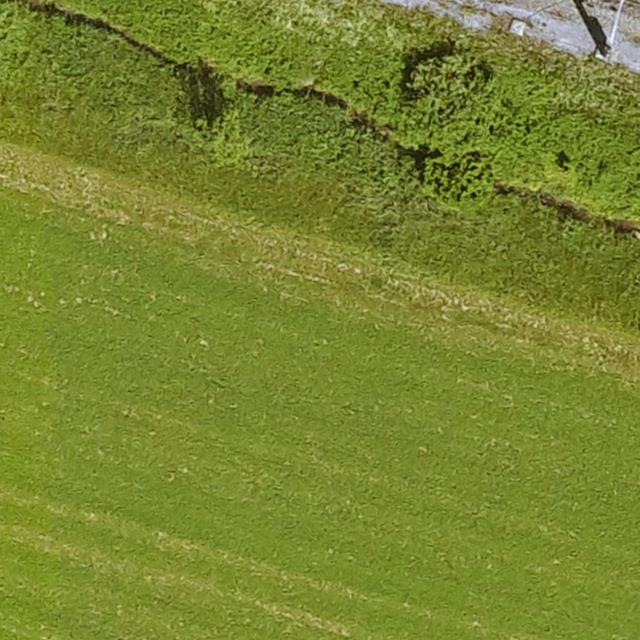tree: (400, 53, 501, 159), (416, 158, 495, 209), (197, 113, 248, 162)
